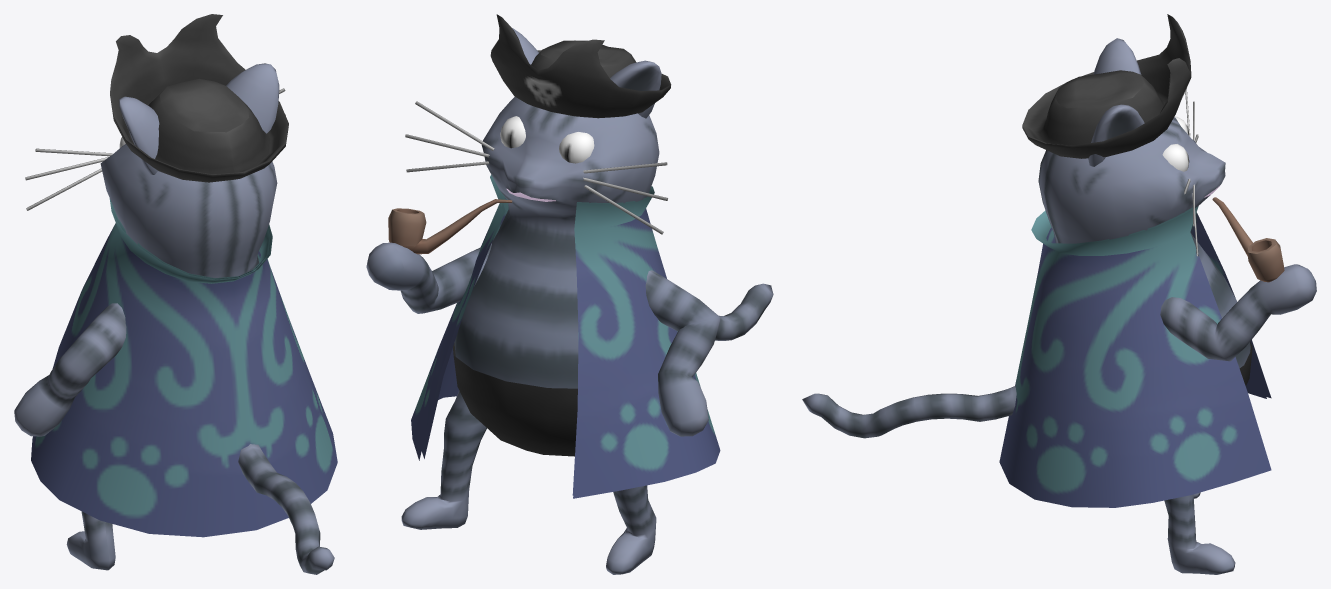
File: neko_idle_a_02.fbx
3 views of the same model, side by side, from view 1: azimuth 30°, elevation 25°; view 2: azimuth 150°, elevation 25°; view 3: azimuth 270°, elevation 25° (orthographic). The views are drawn at different scales.
Parts seen in each view (by area): view 1: I_a_02; view 2: I_a_02; view 3: I_a_02.
Part boxes in pixels (left/top/right/bottom): I_a_02: left=14, top=14, right=337, bottom=574; I_a_02: left=366, top=14, right=773, bottom=574; I_a_02: left=802, top=14, right=1316, bottom=574.
Size of the model in its own units: 1.15 by 1.94 by 1.82.
Materials: 1 (1 with a texture image).
